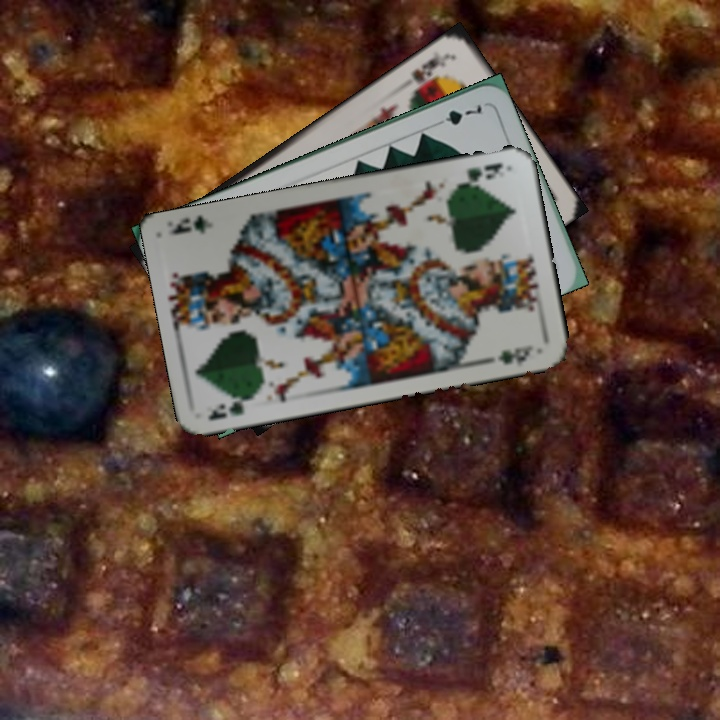G7: (429, 99, 485, 130)
GK: (204, 390, 258, 423), (453, 158, 506, 190)
SK: (405, 52, 452, 96)
